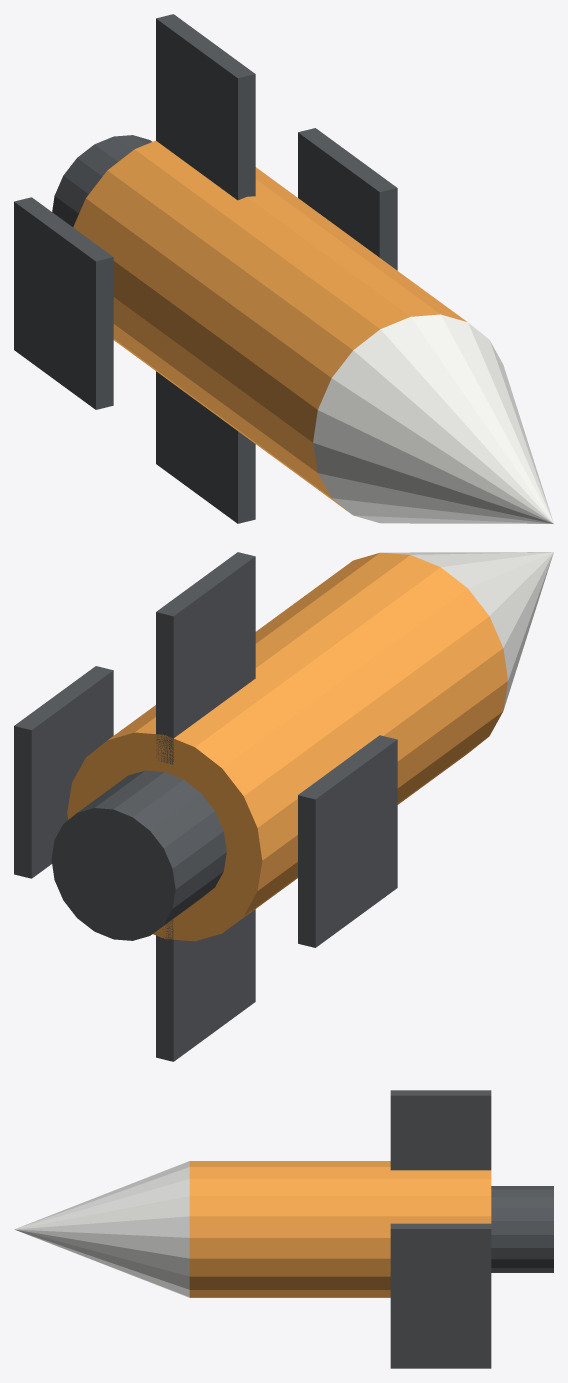
The model's file is Rocket.glb.
3 renders of one model, top to bottom at view 1: azimuth 30°, elevation 25°; view 2: azimuth 150°, elevation 25°; view 3: azimuth 270°, elevation 25°, orthographic. The views are drawn at different scales.
Visible parts, largest first — view 1: Body, Nose, Fin_2, Fin_1, Fin_3, Fin_0, Nozzle; view 2: Body, Nozzle, Fin_2, Fin_1, Fin_0, Fin_3, Nose; view 3: Body, Nose, Fin_0, Fin_1, Nozzle, Fin_3.
Boxes of the visible parts, box(x1,y1,x2,y2) form: Body: box(73, 140, 466, 514); Nose: box(313, 314, 553, 523); Fin_2: box(14, 197, 113, 409); Fin_1: box(156, 14, 255, 200); Fin_3: box(156, 371, 255, 523); Fin_0: box(298, 128, 397, 270); Nozzle: box(52, 135, 152, 226); Body: box(67, 552, 507, 941); Nozzle: box(51, 770, 226, 940); Fin_2: box(298, 735, 397, 947); Fin_1: box(156, 552, 255, 764); Fin_0: box(14, 666, 113, 878); Fin_3: box(156, 909, 255, 1061); Nose: box(384, 552, 553, 709); Body: box(189, 1161, 491, 1297); Nose: box(14, 1161, 189, 1297); Fin_0: box(390, 1223, 491, 1319); Fin_1: box(390, 1090, 491, 1170); Nozzle: box(491, 1186, 553, 1272); Fin_3: box(390, 1320, 491, 1368).
Bounding box in the file's own units: 0.34 × 0.48 × 0.86.
